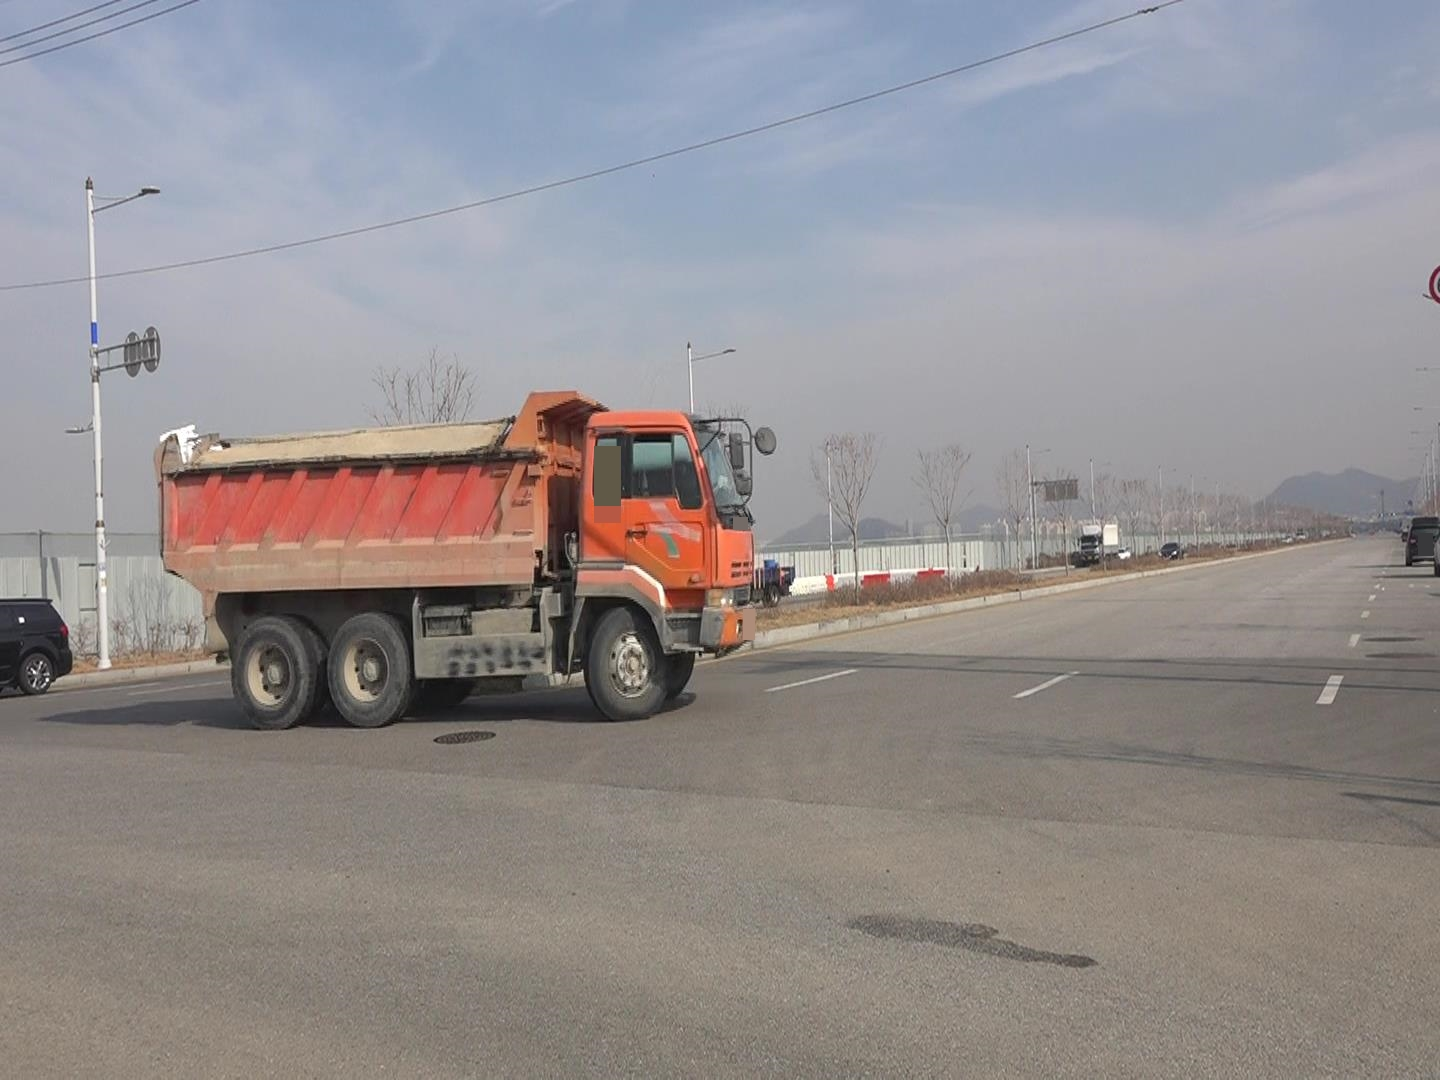불법차량: (153, 391, 777, 731)
